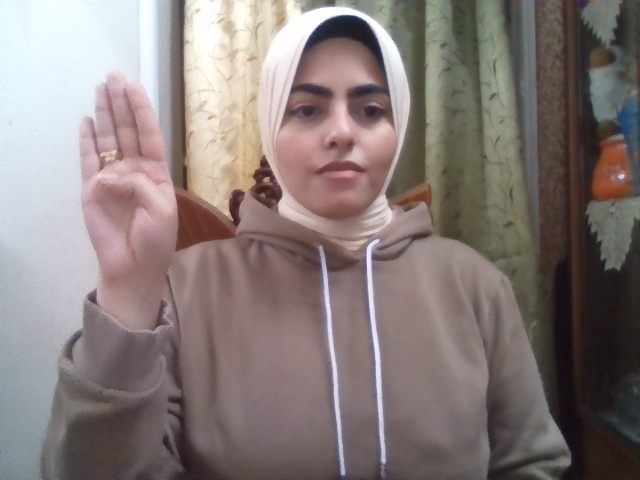B: (79, 69, 178, 292)
